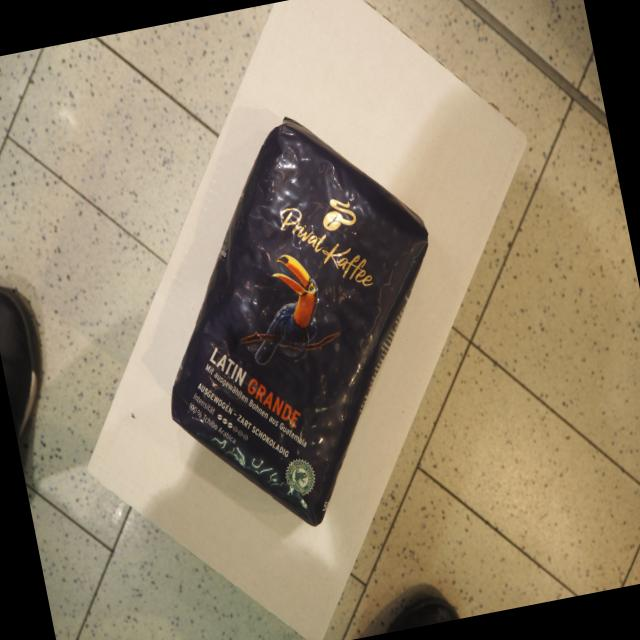LG Bohne: (156, 95, 437, 538)
